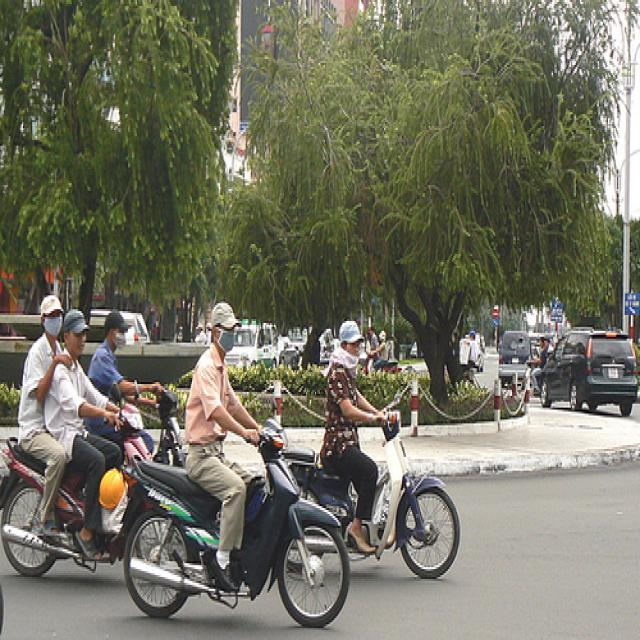motor: (122, 415, 355, 630), (288, 411, 462, 578), (1, 442, 89, 578), (108, 378, 154, 497), (144, 389, 183, 464), (108, 490, 145, 563)
